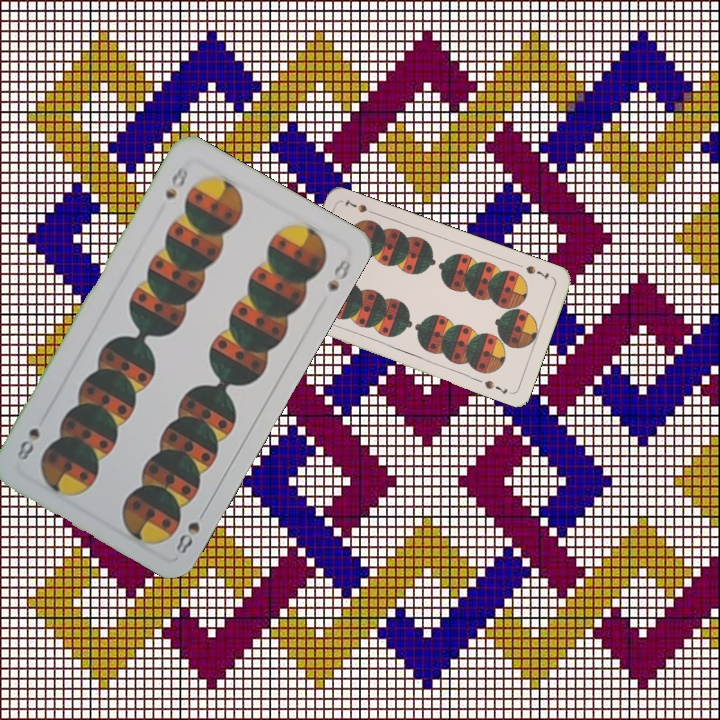S7: (522, 261, 552, 282)
S8: (171, 503, 210, 557), (161, 162, 191, 202)
